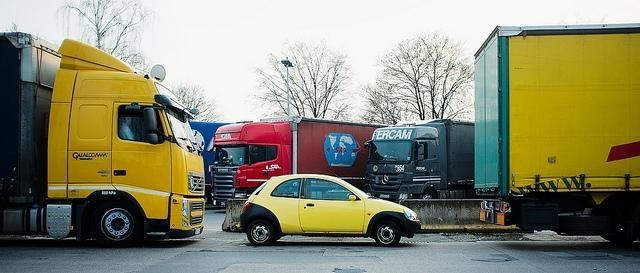car: (240, 171, 421, 247)
truck: (2, 34, 205, 249), (472, 22, 640, 255), (207, 121, 384, 206), (374, 124, 472, 194), (196, 121, 244, 148)
